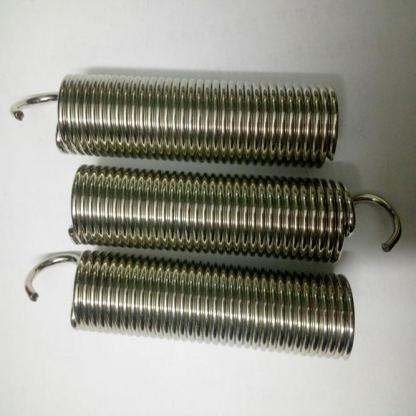FOD: (23, 248, 358, 364), (68, 159, 402, 266), (11, 72, 340, 167)
